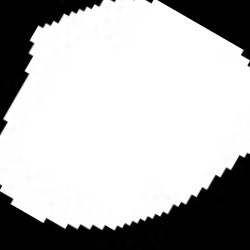spot: (1, 1, 249, 231)
